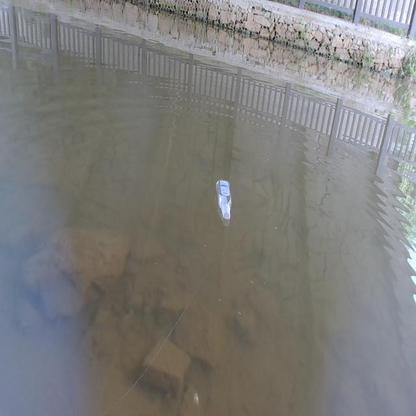plastic bottle: (216, 177, 234, 220)
